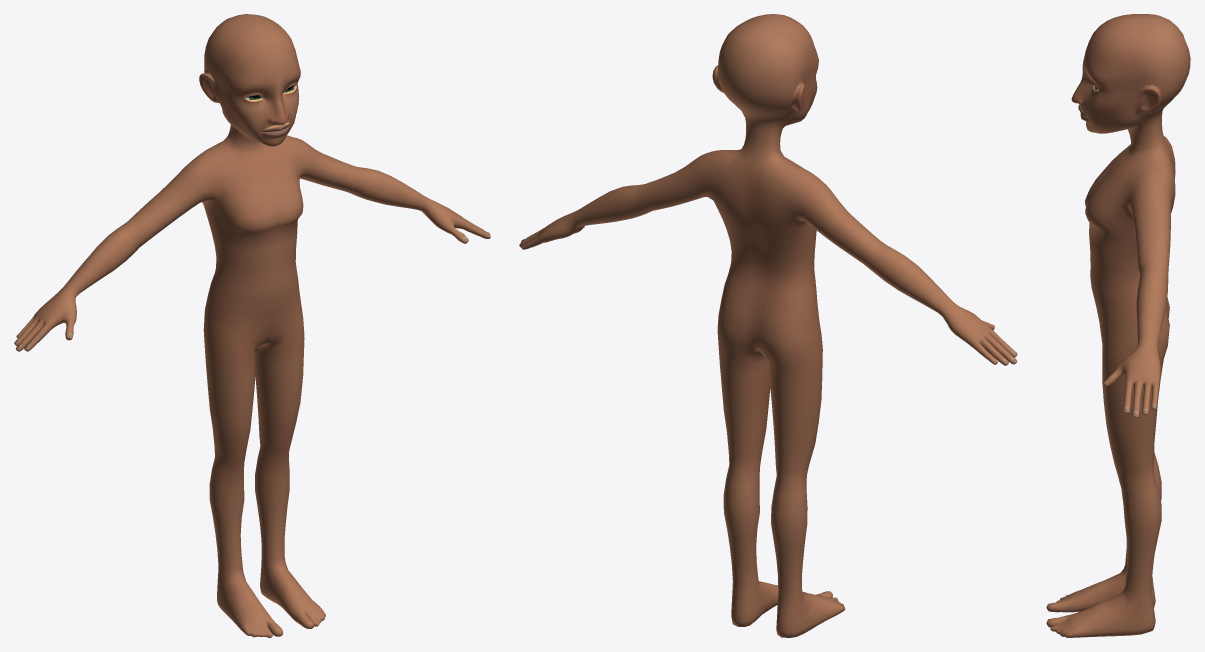
File: frame_0059.glb
3 renders of one model, left to right at view 1: azimuth 30°, elevation 25°; view 2: azimuth 150°, elevation 25°; view 3: azimuth 270°, elevation 25°, orthographic. The views are drawn at different scales.
Parts seen in each view (by area): view 1: frame_0059_head_geo; view 2: frame_0059_head_geo; view 3: frame_0059_head_geo.
Boxes of the visible parts, x1,y1,x2,y2 form: frame_0059_head_geo: (14, 14, 490, 637); frame_0059_head_geo: (519, 14, 1017, 637); frame_0059_head_geo: (1046, 14, 1190, 637).
Bounding box in the file's own units: 1.28 × 1.5 × 0.3253.
3 materials, 3 textured.
